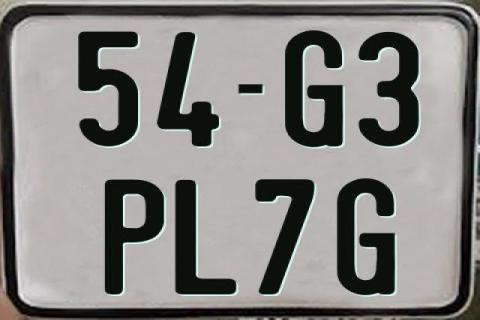0: (77, 31, 140, 149), (156, 32, 218, 151), (254, 177, 316, 293), (360, 32, 422, 147)
G: (282, 30, 344, 152), (336, 177, 400, 295)
L: (176, 178, 242, 294)
P: (105, 180, 167, 300)
